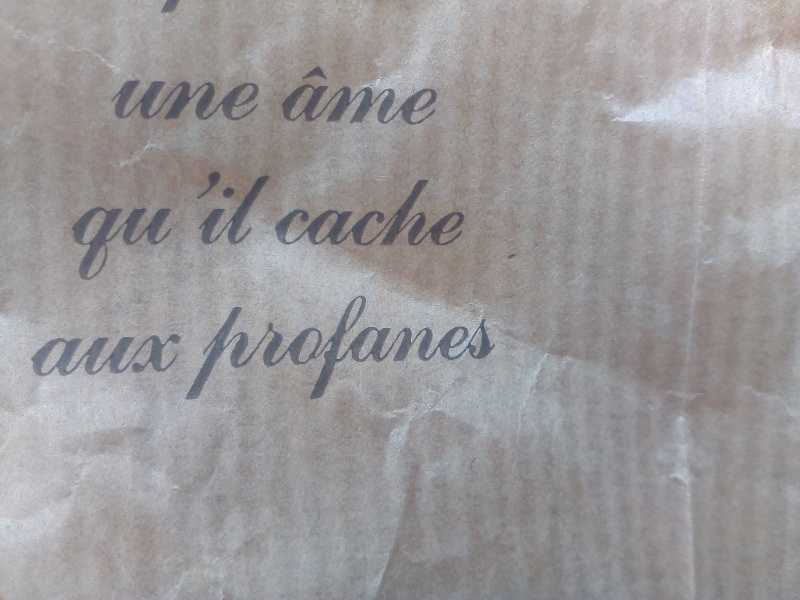text: (225, 292, 240, 401), (241, 292, 256, 401), (257, 292, 272, 401), (273, 292, 288, 401), (289, 292, 304, 401), (305, 292, 320, 401), (321, 292, 336, 401), (337, 292, 352, 401), (353, 292, 368, 401), (369, 292, 384, 401), (385, 292, 400, 401), (401, 292, 416, 401), (417, 292, 432, 401), (433, 292, 448, 401), (449, 292, 464, 401), (465, 292, 480, 401), (481, 292, 496, 401), (81, 205, 96, 282), (97, 205, 112, 282), (113, 205, 128, 282), (129, 205, 144, 282), (145, 205, 160, 282), (209, 171, 224, 247), (225, 171, 240, 247), (241, 171, 256, 247), (257, 171, 271, 247), (289, 179, 304, 247), (305, 179, 320, 247), (321, 179, 336, 247), (337, 179, 352, 247), (353, 179, 368, 247), (369, 179, 384, 247), (385, 179, 400, 247), (401, 179, 416, 247), (417, 179, 432, 247), (433, 179, 448, 247), (449, 179, 464, 247), (161, 205, 174, 282), (289, 66, 304, 127), (305, 66, 320, 127), (321, 66, 336, 127), (337, 66, 352, 127), (353, 66, 368, 127), (369, 66, 384, 127), (385, 66, 400, 127), (401, 66, 416, 127), (417, 66, 432, 127), (196, 171, 208, 247), (277, 179, 288, 247), (71, 205, 80, 282), (33, 333, 48, 378), (49, 333, 64, 378), (65, 333, 80, 378), (81, 333, 96, 378), (97, 333, 112, 378), (113, 333, 128, 378), (129, 333, 144, 378), (145, 333, 160, 378), (161, 333, 176, 378), (113, 81, 128, 121), (129, 81, 144, 121), (145, 81, 160, 121), (161, 81, 176, 121), (177, 81, 192, 121), (193, 81, 208, 121), (209, 81, 224, 121), (225, 81, 240, 121), (241, 81, 256, 121), (281, 66, 288, 127), (433, 66, 439, 127), (177, 333, 182, 378), (222, 292, 224, 401), (497, 292, 499, 401), (465, 179, 468, 247), (257, 81, 260, 121)
